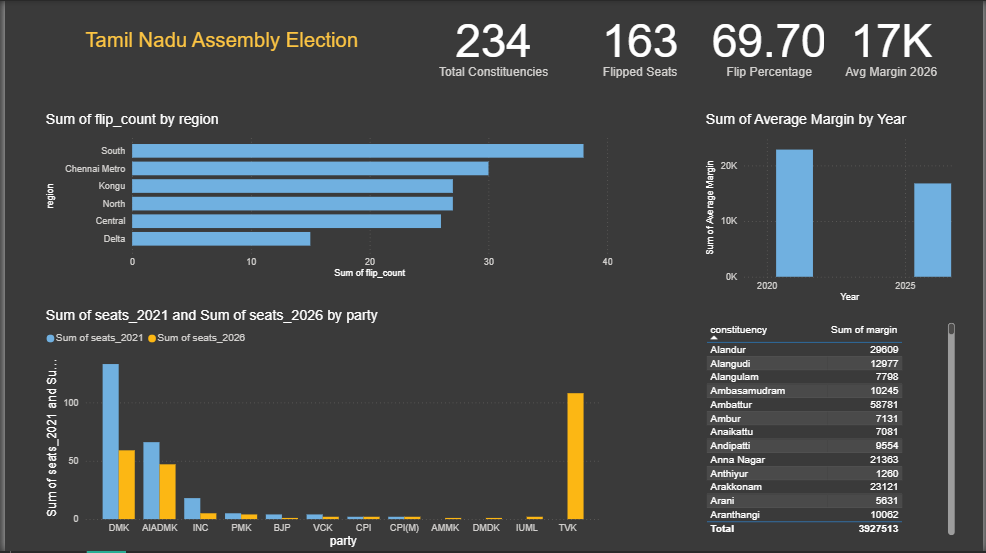

The dashboard page shown, as its layout file describes it:
{"tool":"powerbi","page":{"name":"Page 1","canvas":[1280,720],"ordinal":0},"visuals":[{"type":"clusteredBarChart","fields":{"Category":["region_flip_count.region"],"Y":["Sum(region_flip_count.flip_count)"]},"box":[48,144,752,224],"z":0},{"type":"clusteredColumnChart","fields":{"Category":["avg_margin.Year"],"Y":["Sum(avg_margin.Average Margin)"]},"box":[912,144,336,256],"z":1000},{"type":"tableEx","fields":{"Values":["margin2026.constituency","Sum(margin2026.margin)"]},"box":[912,416,336,288],"z":2000},{"type":"card","fields":{"Values":["avg_margin.Measure"]},"box":[528,0,224,112],"z":2001},{"type":"card","fields":{"Values":["region_flip_count.Flip Percentage"]},"box":[912,0,176,112],"z":2002},{"type":"card","fields":{"Values":["region_flip_count.Flipped Seats"]},"box":[752,0,160,112],"z":2003},{"type":"card","fields":{"Values":["winner2026.Avg Margin 2026"]},"box":[1072,0,176,112],"z":2004},{"type":"clusteredColumnChart","fields":{"Category":["party_compare.party"],"Y":["Sum(party_compare.seats_2021)","Sum(party_compare.seats_2026)"]},"box":[48,400,736,320],"z":2005},{"type":"textbox","box":[96,32,384,80],"z":2006}]}

Visuals, with their boxes in screenshot pixels (x1, y1, x2, y2), scaled from the page's 1280x720 canvas onto the 986x553 screenshot:
clusteredBarChart - region_flip_count.region x Sum(region_flip_count.flip_count): (left=37, top=111, right=616, bottom=283)
clusteredColumnChart - avg_margin.Year x Sum(avg_margin.Average Margin): (left=703, top=111, right=961, bottom=307)
tableEx - margin2026.constituency x Sum(margin2026.margin): (left=703, top=320, right=961, bottom=541)
card - avg_margin.Measure: (left=407, top=0, right=579, bottom=86)
card - region_flip_count.Flip Percentage: (left=703, top=0, right=838, bottom=86)
card - region_flip_count.Flipped Seats: (left=579, top=0, right=703, bottom=86)
card - winner2026.Avg Margin 2026: (left=826, top=0, right=961, bottom=86)
clusteredColumnChart - party_compare.party x Sum(party_compare.seats_2021): (left=37, top=307, right=604, bottom=552)
textbox: (left=74, top=25, right=370, bottom=86)
